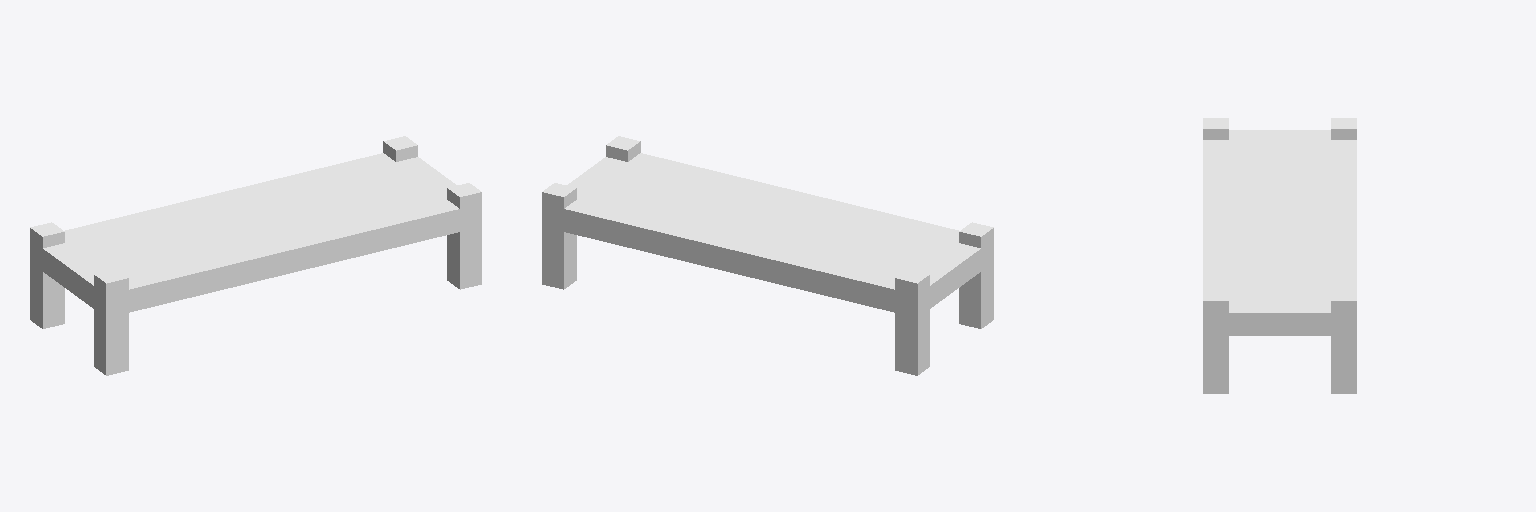
The model's file is classic:table-small-fancy.obj.
3 views of the same model, side by side, from view 1: azimuth 30°, elevation 25°; view 2: azimuth 150°, elevation 25°; view 3: azimuth 270°, elevation 25° (orthographic).
Parts seen in each view (by area): view 1: classic:table-small-fancy; view 2: classic:table-small-fancy; view 3: classic:table-small-fancy.
Part boxes in pixels (bbox=[...]): classic:table-small-fancy: bbox=[30, 136, 481, 375]; classic:table-small-fancy: bbox=[542, 136, 993, 375]; classic:table-small-fancy: bbox=[1203, 118, 1356, 393].
Bounding box in the file's own units: 34 × 8 × 12.